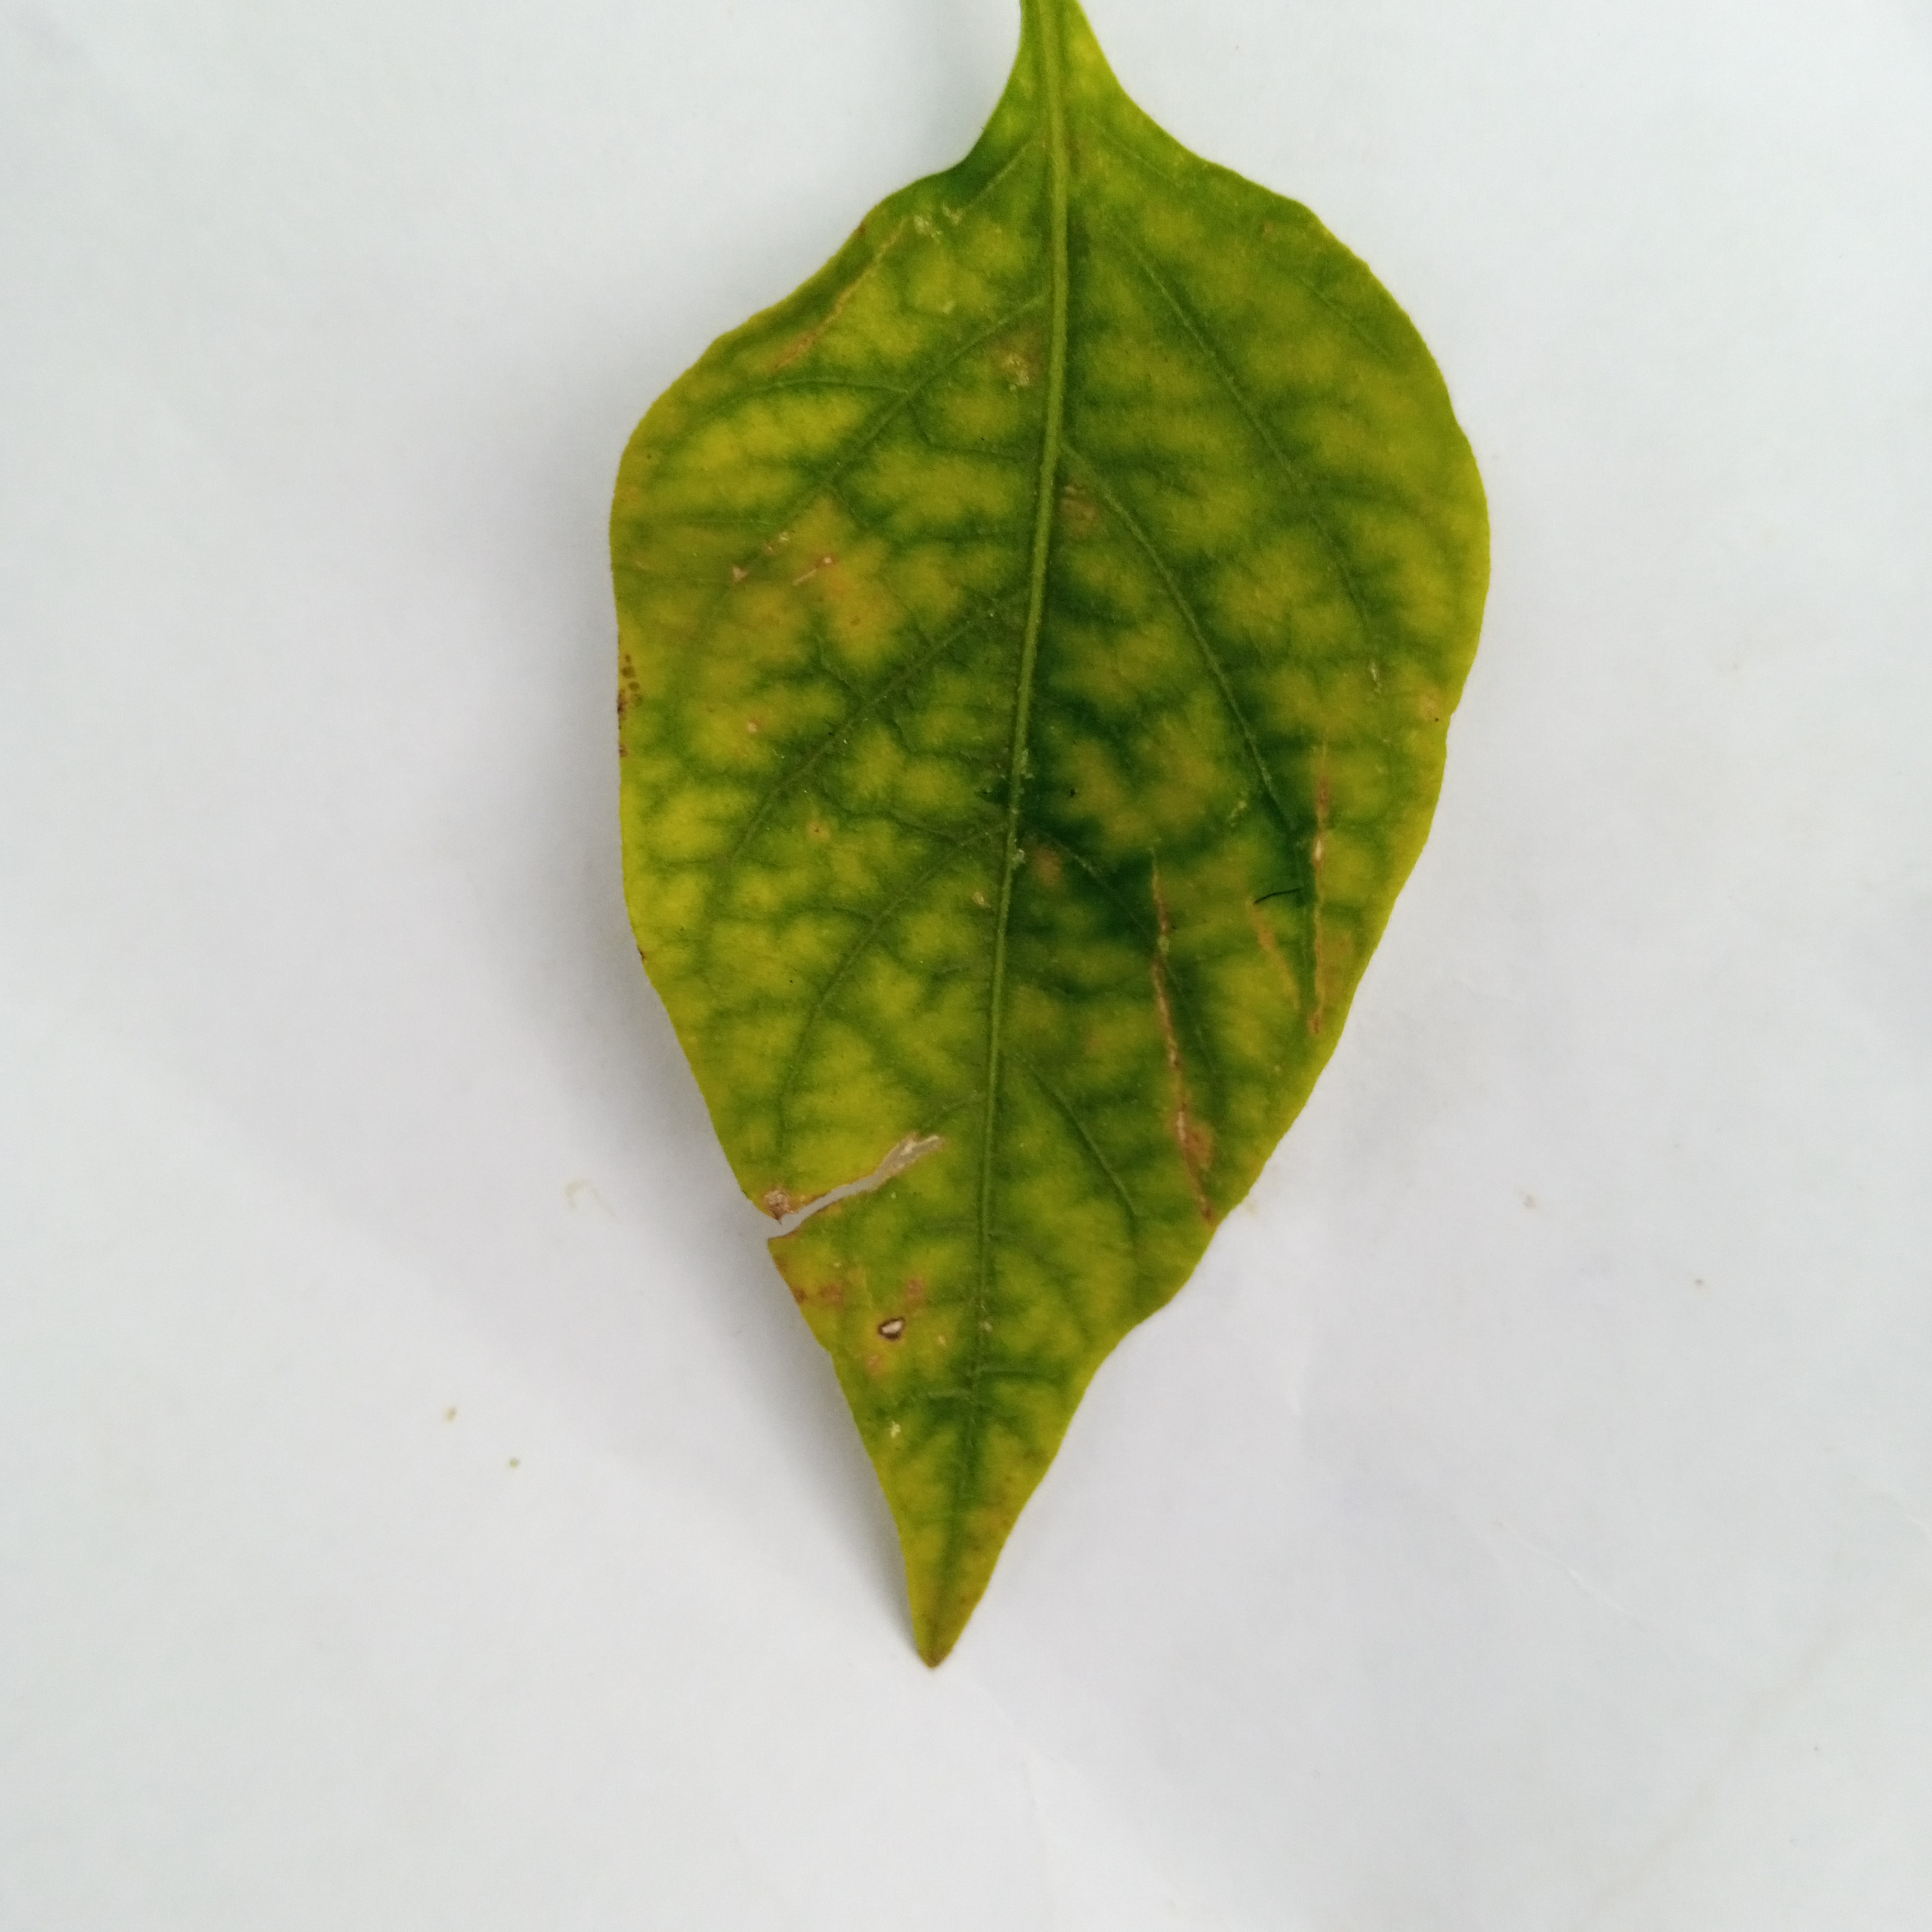Leaf: (458, 42, 1537, 1709)
